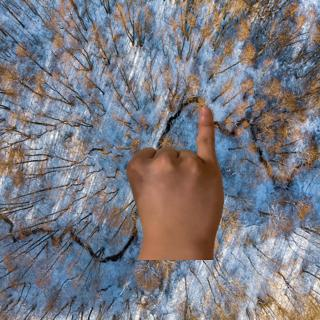FINE: (121, 102, 229, 248)
